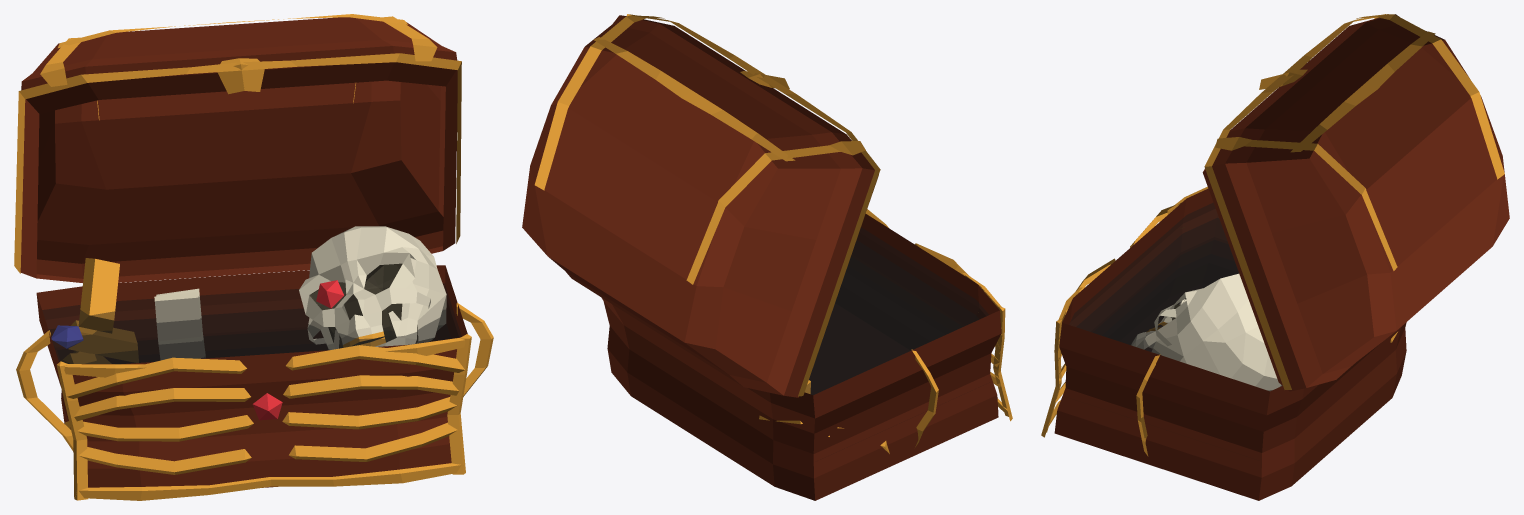
File: chest.fbx
3 views of the same model, side by side, from view 1: azimuth 30°, elevation 25°; view 2: azimuth 150°, elevation 25°; view 3: azimuth 270°, elevation 25° (orthographic). The views are drawn at different scales.
Parts seen in each view (by area): view 1: ChestTop, ChestBottom, Skull, GoldBar, Map, Gem1, Gem1.002; view 2: ChestTop, ChestBottom; view 3: ChestTop, ChestBottom, Skull.
Boxes of the visible parts, x1=… form: ChestTop: x1=14, y1=14, x2=461, y2=282; ChestBottom: x1=16, y1=265, x2=493, y2=500; Skull: x1=299, y1=226, x2=446, y2=349; GoldBar: x1=62, y1=258, x2=138, y2=429; Map: x1=154, y1=288, x2=204, y2=359; Gem1: x1=316, y1=280, x2=343, y2=308; Gem1.002: x1=51, y1=325, x2=83, y2=348; ChestTop: x1=522, y1=14, x2=880, y2=397; ChestBottom: x1=601, y1=209, x2=1012, y2=500; ChestTop: x1=1202, y1=14, x2=1509, y2=391; ChestBottom: x1=1041, y1=186, x2=1406, y2=500; Skull: x1=1131, y1=273, x2=1282, y2=390.
Bounding box in the file's own units: 28.72 × 27.85 × 23.83.
